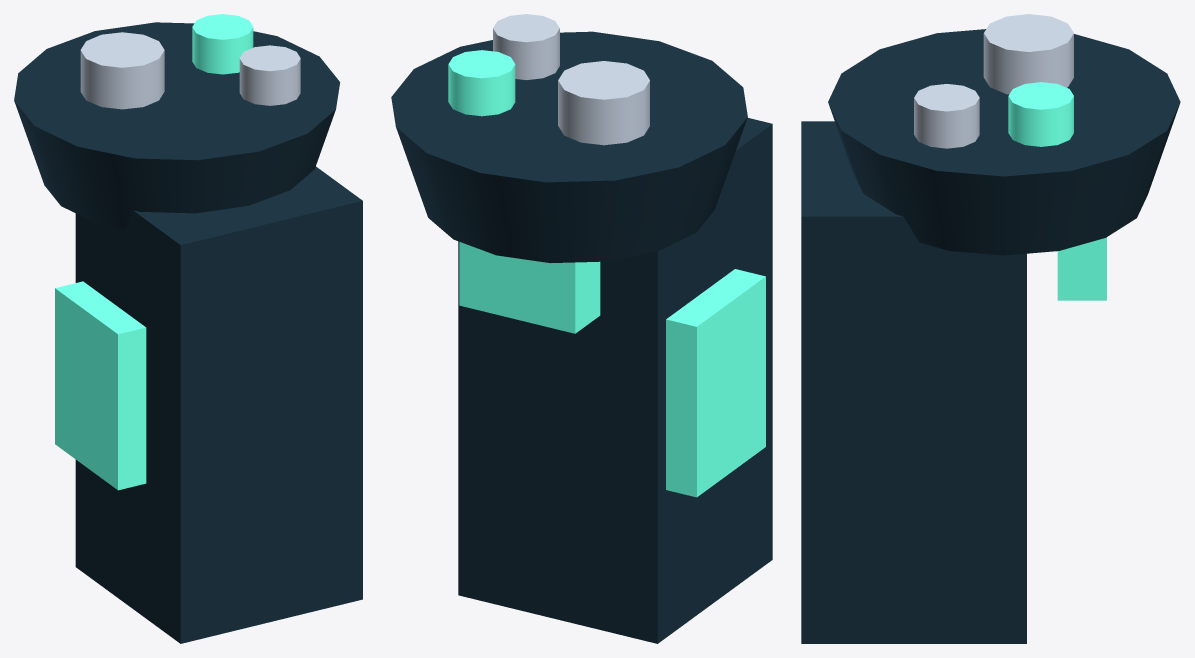
File: controller.gltf
The picture shows the model from 3 angles, left to right: view 1: azimuth 30°, elevation 25°; view 2: azimuth 150°, elevation 25°; view 3: azimuth 270°, elevation 25°; orthographic projection. The views are drawn at different scales.
Visible parts, largest first — view 1: object 1, object 2, xr-standard-squeeze-value, xr-standard-thumbstick-value, b-button-value, a-button-value; view 2: object 1, object 2, xr-standard-squeeze-value, xr-standard-trigger-value, xr-standard-thumbstick-value, a-button-value, b-button-value; view 3: object 1, object 2, xr-standard-thumbstick-value, a-button-value, b-button-value, xr-standard-trigger-value.
Boxes of the visible parts, x1,y1,x2,y2 form: object 1: (75, 166, 362, 643); object 2: (14, 22, 340, 228); xr-standard-squeeze-value: (55, 281, 146, 490); xr-standard-thumbstick-value: (80, 32, 164, 109); b-button-value: (239, 45, 300, 105); a-button-value: (192, 14, 253, 74); object 1: (458, 118, 772, 643); object 2: (391, 31, 747, 263); xr-standard-squeeze-value: (666, 269, 765, 497); xr-standard-trigger-value: (459, 242, 600, 333); xr-standard-thumbstick-value: (558, 61, 649, 145); a-button-value: (448, 50, 515, 116); b-button-value: (493, 14, 559, 80); object 1: (801, 121, 1026, 643); object 2: (828, 29, 1180, 255); xr-standard-thumbstick-value: (983, 14, 1073, 94); a-button-value: (1008, 82, 1073, 146); b-button-value: (914, 84, 979, 148); xr-standard-trigger-value: (1057, 237, 1106, 300).
Bounding box in the file's own units: 0.086 × 0.1455 × 0.0925.
